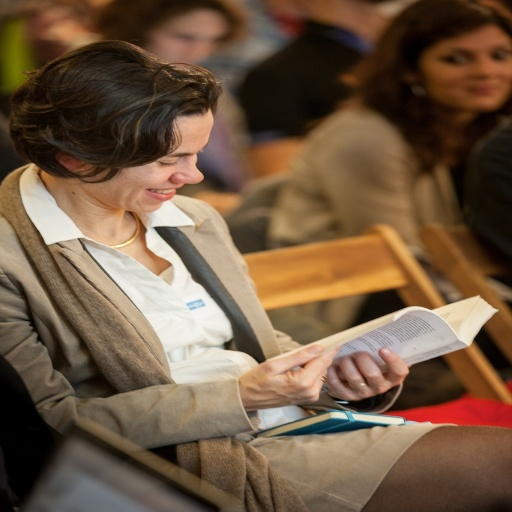hand: (244, 328, 384, 415), (323, 344, 411, 405)
